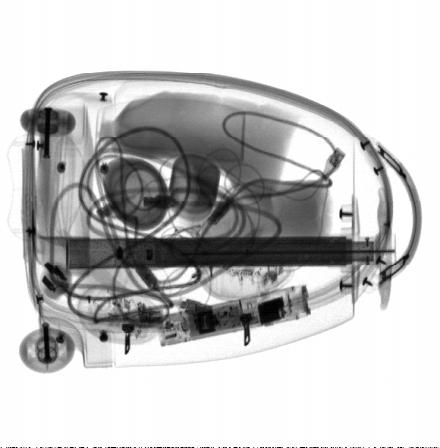Baton: (156, 284, 312, 347)
